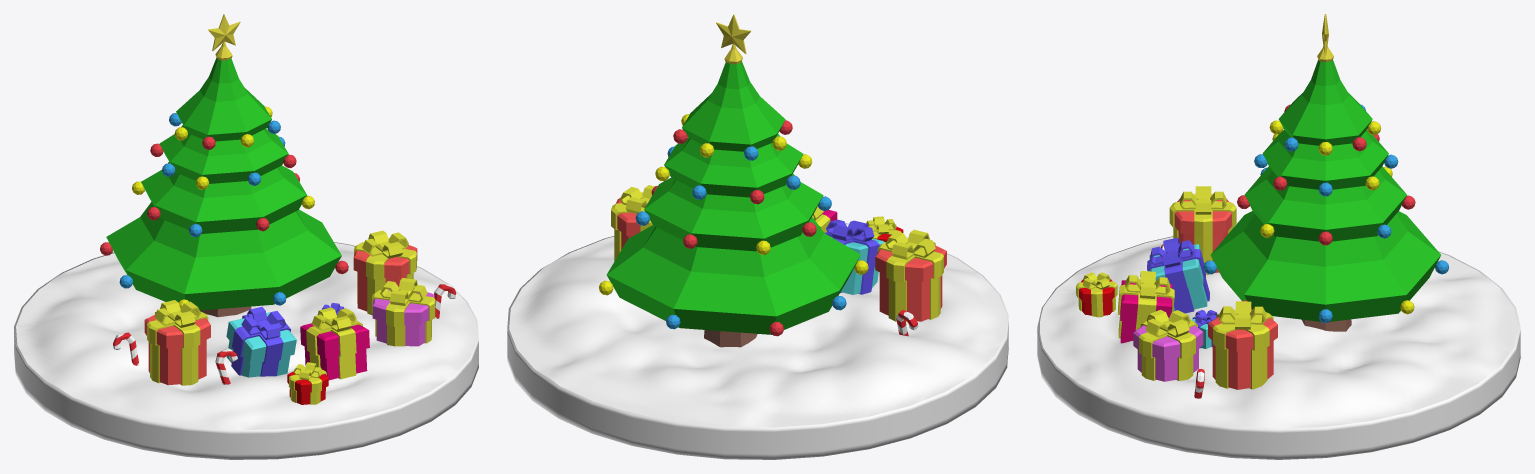
3 renders of one model, left to right at view 1: azimuth 30°, elevation 25°; view 2: azimuth 150°, elevation 25°; view 3: azimuth 270°, elevation 25°, orthographic. The views are drawn at different scales.
Visible parts, largest first — view 1: Ground, Christmas tree IceAliensForge, Box 1 red, Box 4 pink, Box 2 Blue, Box 6 pink, Box 7 red, Box 3 red, Stick; view 2: Ground, Christmas tree IceAliensForge, Box 1 red, Box 2 Blue, Box 7 red, Box 3 red; view 3: Ground, Christmas tree IceAliensForge, Box 7 red, Box 6 pink, Box 1 red, Box 2 Blue, Box 4 pink, Box 3 red.
Boxes of the visible parts, x1,y1,x2,y2 form: Ground: (14,242,478,459); Christmas tree IceAliensForge: (100,14,348,317); Box 1 red: (144,300,210,385); Box 4 pink: (300,307,369,380); Box 2 Blue: (226,306,296,377); Box 6 pink: (372,278,435,346); Box 7 red: (353,230,417,315); Box 3 red: (287,362,328,404); Stick: (113,284,456,384); Ground: (507,223,1008,459); Christmas tree IceAliensForge: (599,14,868,347); Box 1 red: (875,229,946,321); Box 2 Blue: (824,219,884,294); Box 7 red: (611,185,654,261); Box 3 red: (866,216,903,242); Ground: (1037,227,1520,459); Christmas tree IceAliensForge: (1203,14,1449,331); Box 7 red: (1208,301,1277,389); Box 6 pink: (1133,309,1203,381); Box 1 red: (1169,186,1236,274); Box 2 Blue: (1147,237,1209,313); Box 4 pink: (1118,271,1174,343); Box 3 red: (1076,272,1117,317).
Bounding box in the file's own units: 596 × 467 × 596.
Materials: 22 (20 with a texture image).
